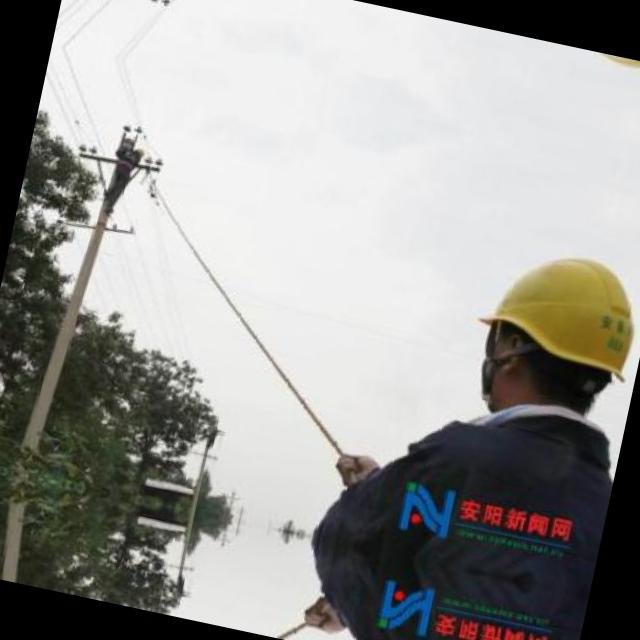helmet: (433, 207, 640, 445)
